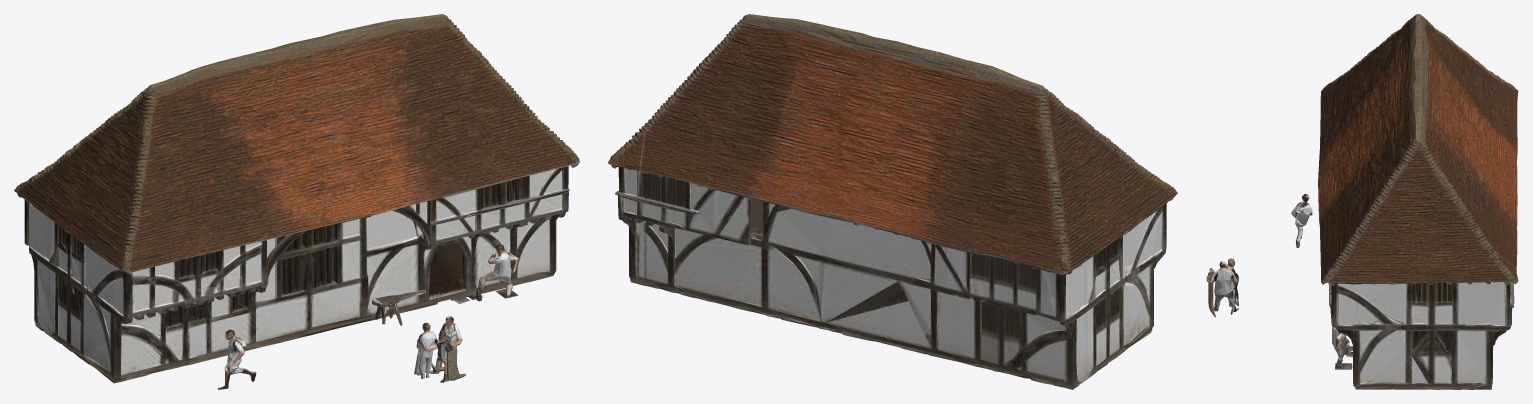
Rendered from hall_house_bayleaf_a.meshy.reduced.glb.
3 views of the same model, side by side, from view 1: azimuth 30°, elevation 25°; view 2: azimuth 150°, elevation 25°; view 3: azimuth 270°, elevation 25° (orthographic). The views are drawn at different scales.
Size of the model in its own units: 1.9 by 1.03 by 1.28.
Materials: 1 (1 with a texture image).
